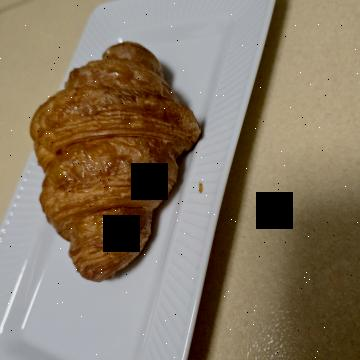croissant: (45, 150, 300, 335)
